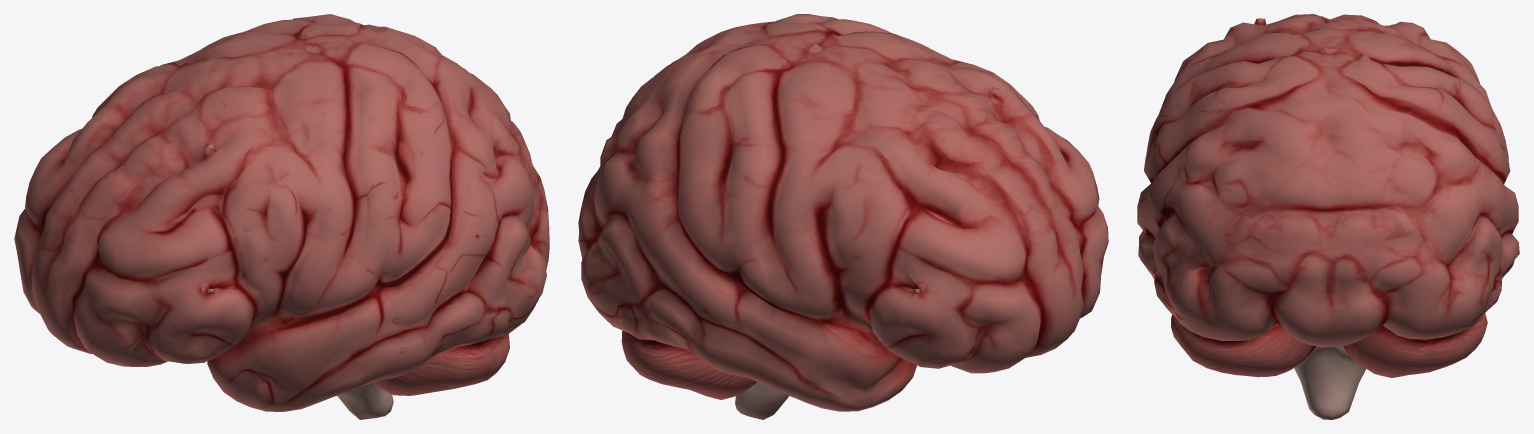
The model's file is Pink Grooved Brain Model.glb.
3 renders of one model, left to right at view 1: azimuth 30°, elevation 25°; view 2: azimuth 150°, elevation 25°; view 3: azimuth 270°, elevation 25°, orthographic. The views are drawn at different scales.
Parts seen in each view (by area): view 1: pb_node; view 2: pb_node; view 3: pb_node.
Part boxes in pixels (x1,y1,x2,y2): pb_node: [14, 14, 549, 419]; pb_node: [578, 14, 1108, 419]; pb_node: [1137, 14, 1519, 419].
Size of the model in its own units: 0.998 by 0.791 by 0.7949.
Materials: 1 (1 with a texture image).
